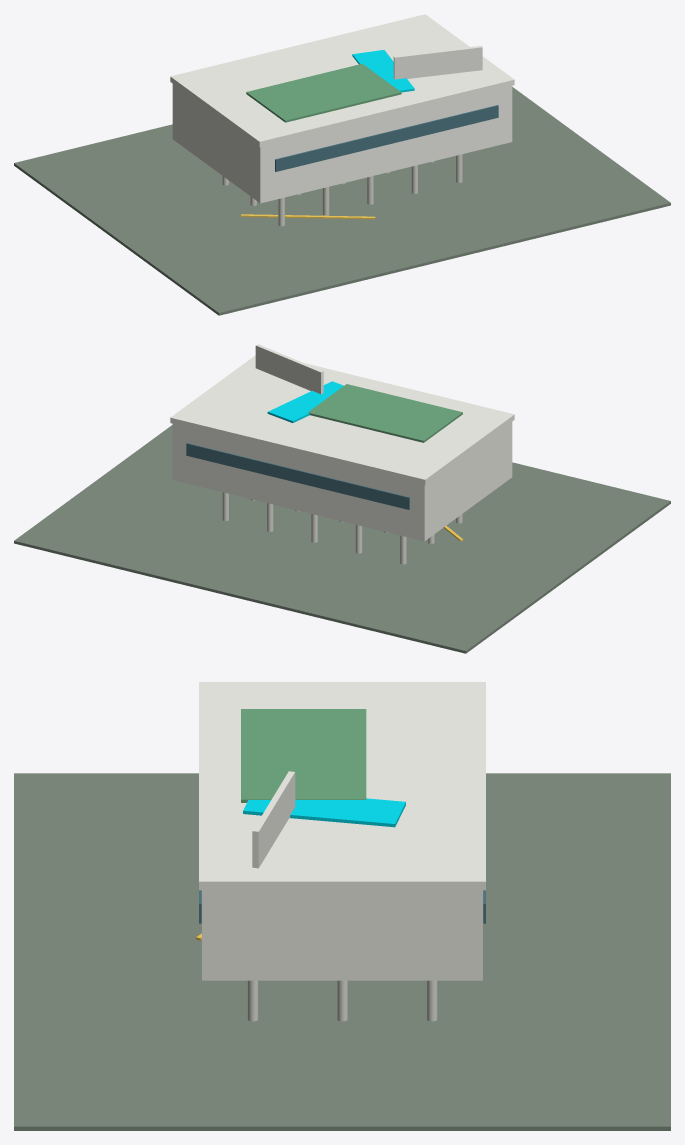
3 renders of one model, top to bottom at view 1: azimuth 30°, elevation 25°; view 2: azimuth 150°, elevation 25°; view 3: azimuth 270°, elevation 25°, orthographic. The views are drawn at different scales.
Parts seen in each view (by area): view 1: 01_site_context / ground plane, 03_structure / roof slab, 02_mass_model / lifted villa volume, 06_roof_garden / planted roof field, 04_envelope / horizontal window band south, 04_envelope / roof solarium screen, 05_circulation / roof ramp continuation; view 2: 01_site_context / ground plane, 03_structure / roof slab, 02_mass_model / lifted villa volume, 06_roof_garden / planted roof field, 04_envelope / horizontal window band north, 04_envelope / roof solarium screen, 05_circulation / roof ramp continuation; view 3: 01_site_context / ground plane, 03_structure / roof slab, 02_mass_model / lifted villa volume, 06_roof_garden / planted roof field, 05_circulation / roof ramp continuation, 04_envelope / roof solarium screen.
Boxes of the visible parts, box(x1,y1,x2,y2) form: 01_site_context / ground plane: box(14, 87, 670, 315); 03_structure / roof slab: box(170, 14, 514, 146); 02_mass_model / lifted villa volume: box(172, 84, 512, 203); 06_roof_garden / planted roof field: box(246, 63, 401, 122); 04_envelope / horizontal window band south: box(275, 105, 498, 171); 04_envelope / roof solarium screen: box(393, 45, 482, 79); 05_circulation / roof ramp continuation: box(352, 50, 414, 92); 01_site_context / ground plane: box(14, 425, 670, 653); 03_structure / roof slab: box(170, 355, 514, 484); 02_mass_model / lifted villa volume: box(172, 422, 512, 541); 06_roof_garden / planted roof field: box(308, 384, 462, 442); 04_envelope / horizontal window band north: box(186, 443, 409, 509); 04_envelope / roof solarium screen: box(255, 344, 323, 393); 05_circulation / roof ramp continuation: box(267, 381, 343, 422); 01_site_context / ground plane: box(14, 773, 670, 1130); 03_structure / roof slab: box(199, 682, 485, 890); 02_mass_model / lifted villa volume: box(202, 890, 482, 980); 06_roof_garden / planted roof field: box(241, 709, 366, 802); 05_circulation / roof ramp continuation: box(243, 798, 405, 827); 04_envelope / roof solarium screen: box(252, 771, 295, 868).
Size of the model in its own units: 28 by 7.78 by 22.
